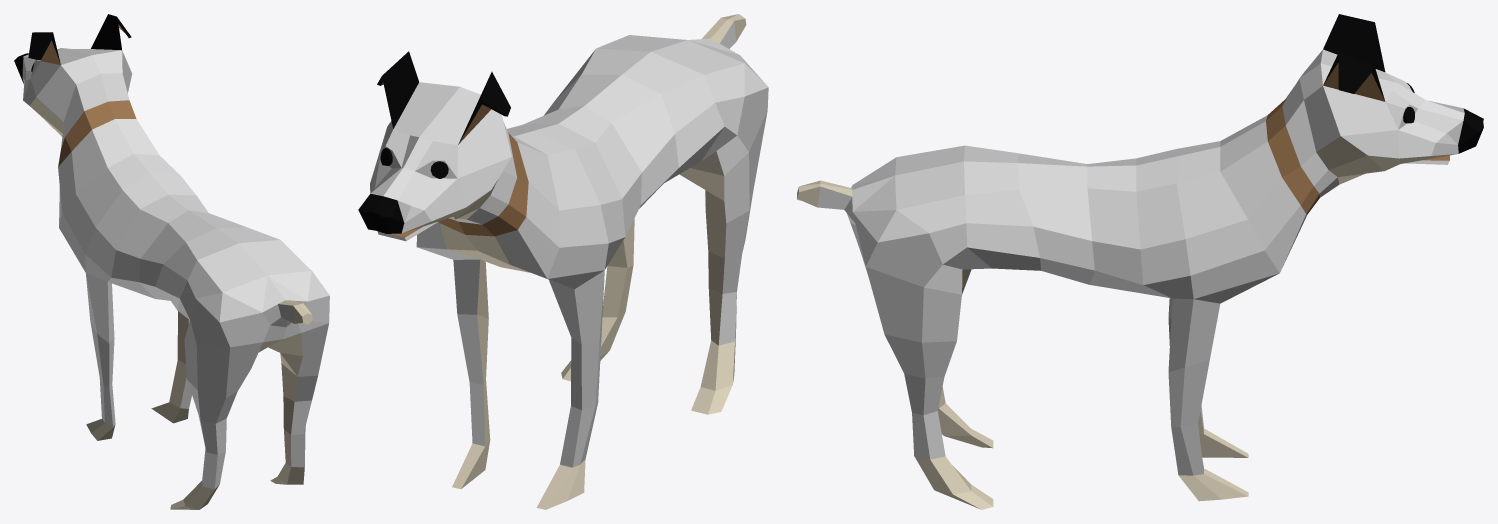
The picture shows the model from 3 angles, left to right: view 1: azimuth 30°, elevation 25°; view 2: azimuth 150°, elevation 25°; view 3: azimuth 270°, elevation 25°; orthographic projection. The views are drawn at different scales.
Visible parts, largest first — view 1: luna-dog_white_0, luna-dog_yellow-white_0, luna-dog_brown_0, luna-dog_black_0; view 2: luna-dog_white_0, luna-dog_yellow-white_0, luna-dog_black_0, luna-dog_brown_0; view 3: luna-dog_white_0, luna-dog_yellow-white_0, luna-dog_black_0, luna-dog_brown_0.
Part boxes in pixels (x1=…): luna-dog_white_0: x1=22, y1=48, x2=329, y2=489; luna-dog_yellow-white_0: x1=30, y1=97, x2=312, y2=509; luna-dog_brown_0: x1=40, y1=24, x2=136, y2=166; luna-dog_black_0: x1=14, y1=14, x2=131, y2=83; luna-dog_white_0: x1=370, y1=21, x2=768, y2=467; luna-dog_yellow-white_0: x1=404, y1=14, x2=746, y2=509; luna-dog_black_0: x1=358, y1=51, x2=510, y2=233; luna-dog_brown_0: x1=381, y1=82, x2=528, y2=237; luna-dog_white_0: x1=817, y1=49, x2=1464, y2=475; luna-dog_yellow-white_0: x1=797, y1=136, x2=1456, y2=509; luna-dog_black_0: x1=1323, y1=14, x2=1483, y2=153; luna-dog_brown_0: x1=1266, y1=62, x2=1449, y2=214.
Bounding box in the file's own units: 188 × 530 × 745.
